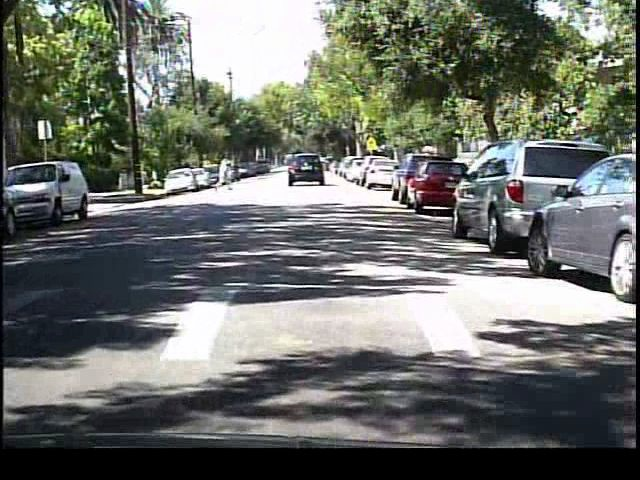person: (214, 154, 235, 195)
